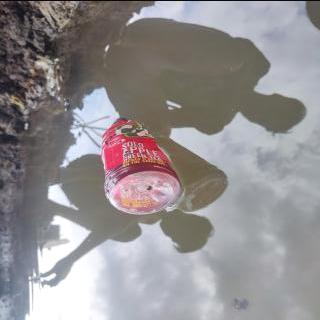bottle: (97, 115, 185, 215)
